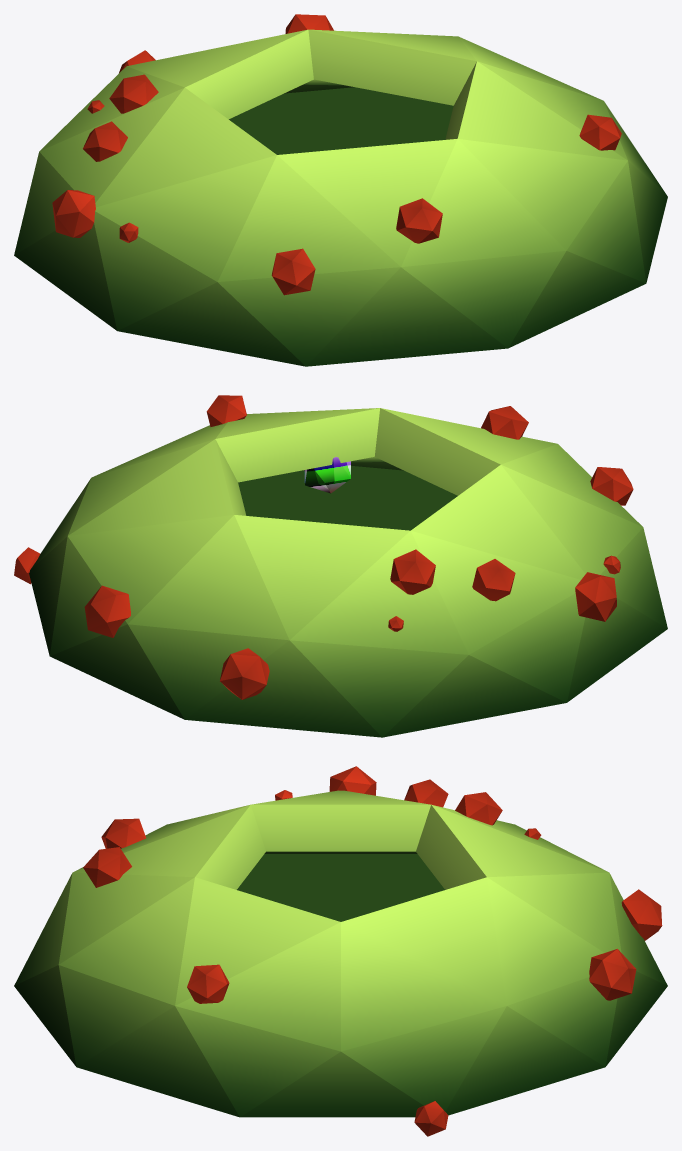
File: TreeBase_Bush_RedFlower.fbx
3 renders of one model, top to bottom at view 1: azimuth 30°, elevation 25°; view 2: azimuth 150°, elevation 25°; view 3: azimuth 270°, elevation 25°, orthographic. The views are drawn at different scales.
Parts seen in each view (by area): view 1: TreeBase_Bush_RedFlower; view 2: TreeBase_Bush_RedFlower; view 3: TreeBase_Bush_RedFlower.
Boxes of the visible parts, bbox=[...] form: TreeBase_Bush_RedFlower: bbox=[14, 14, 667, 366]; TreeBase_Bush_RedFlower: bbox=[14, 395, 667, 737]; TreeBase_Bush_RedFlower: bbox=[14, 766, 667, 1136].
Bounding box in the file's own units: 276 × 67.21 × 279.
